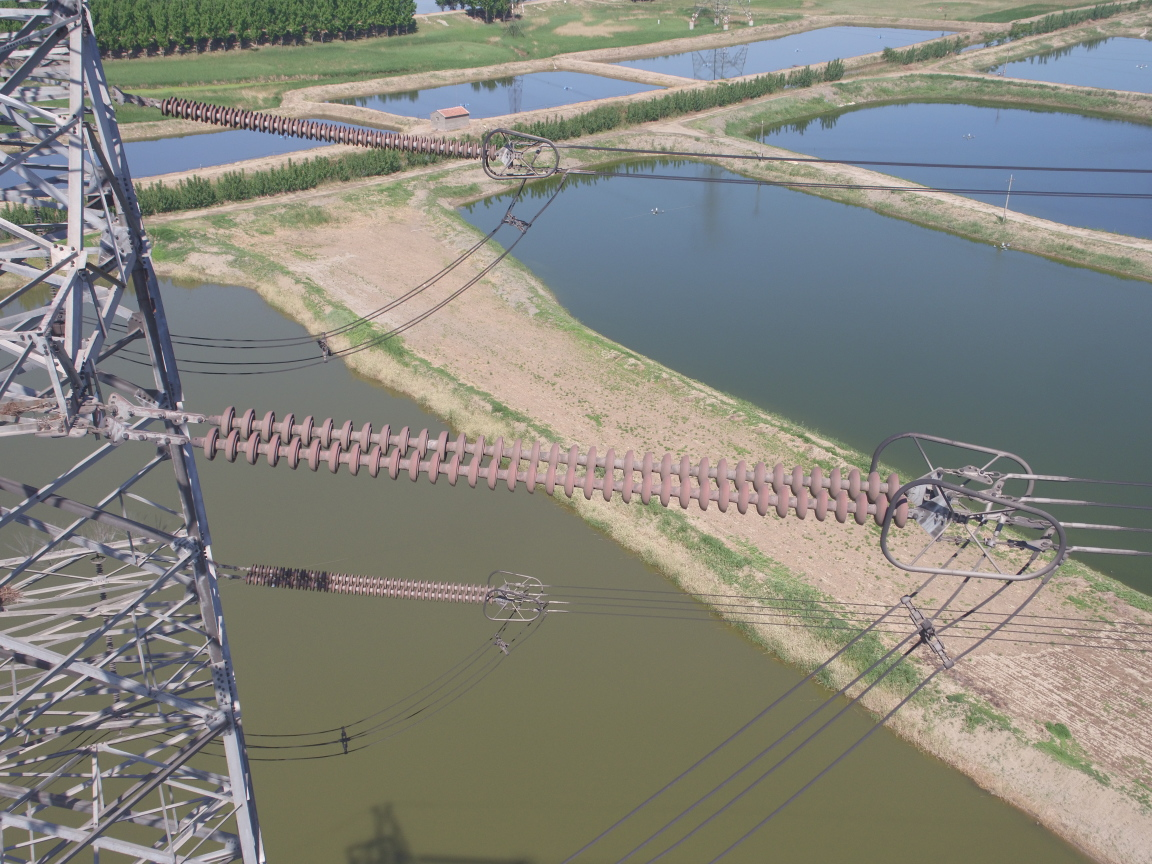insulator: (162, 402, 937, 531), (137, 92, 507, 163), (232, 557, 508, 607)
